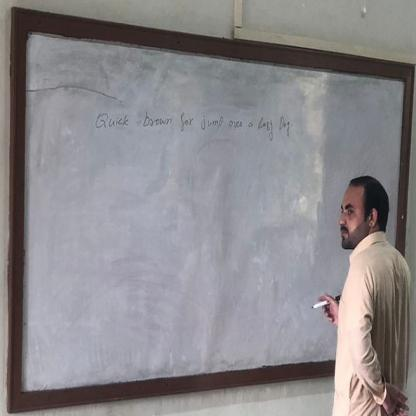Handwritten text: (85, 103, 305, 159)
Lecturer: (297, 170, 410, 404)
Whiteboard: (4, 26, 410, 416)
